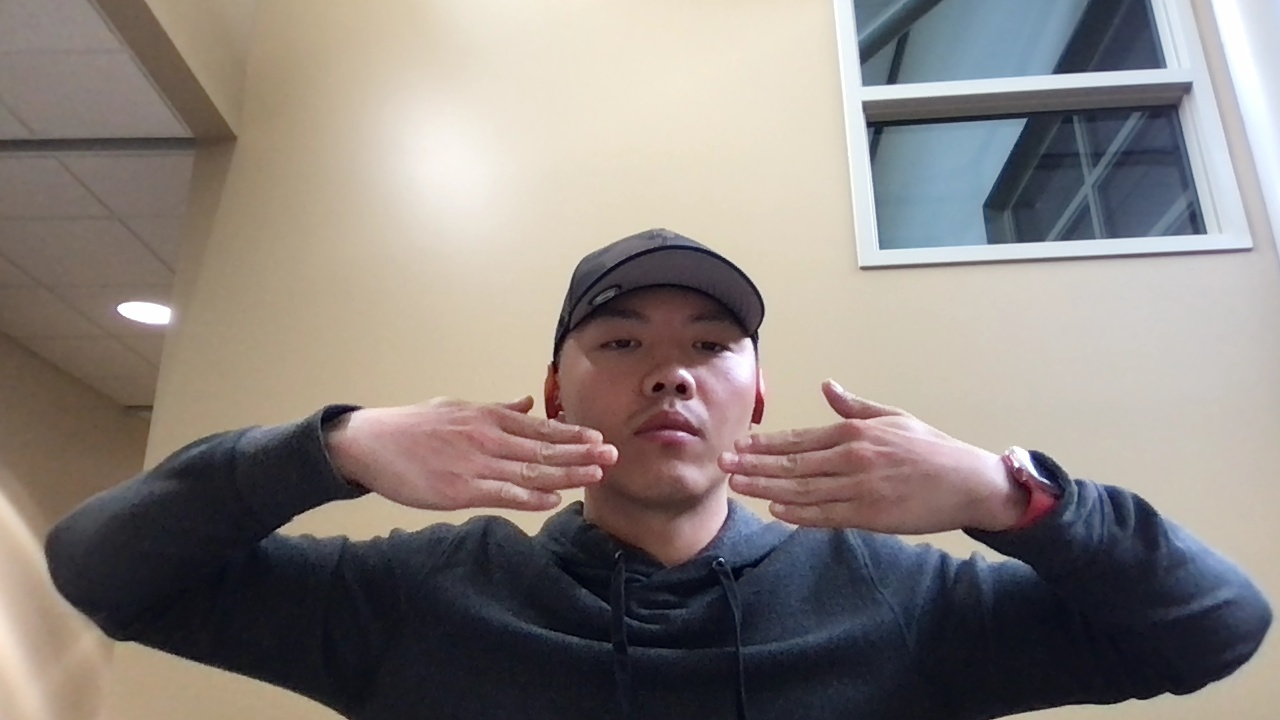Thank You: (335, 378, 996, 537)
